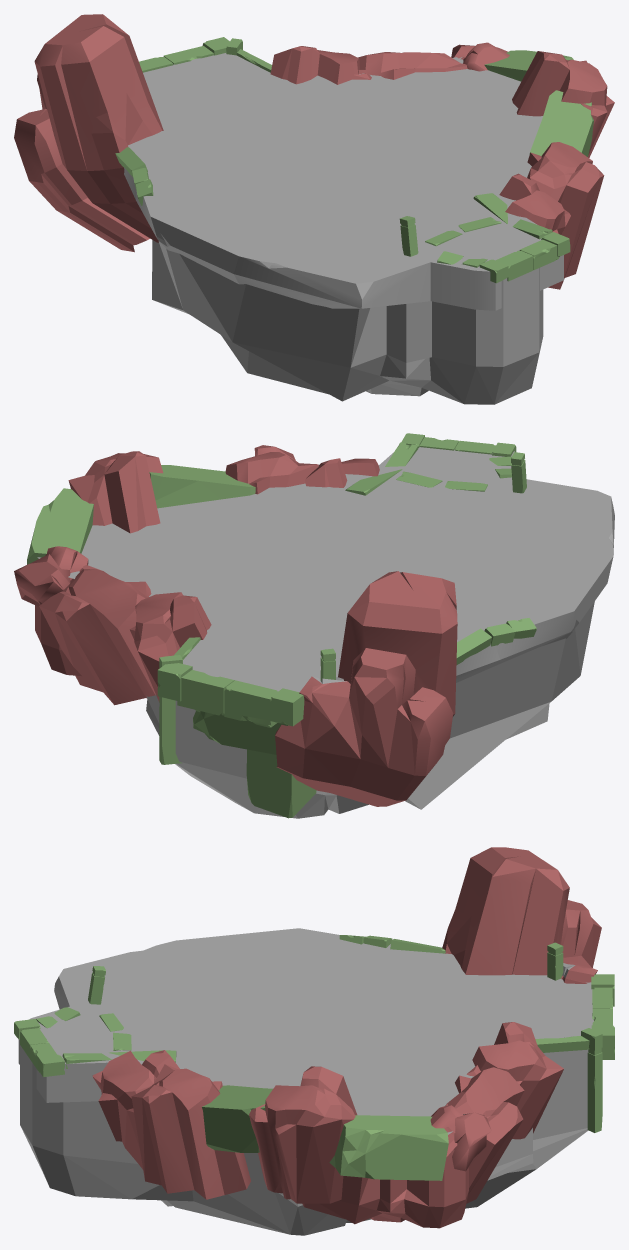
File: SM_Spawn_Island_03.fbx
3 renders of one model, top to bottom at view 1: azimuth 30°, elevation 25°; view 2: azimuth 150°, elevation 25°; view 3: azimuth 270°, elevation 25°, orthographic. The views are drawn at different scales.
Visible parts, largest first — view 1: SM_Spawn_Island_04; view 2: SM_Spawn_Island_04; view 3: SM_Spawn_Island_04.
Part boxes in pixels (box(x1,y1,x2,y2)): SM_Spawn_Island_04: box(14, 14, 614, 404); SM_Spawn_Island_04: box(14, 433, 614, 818); SM_Spawn_Island_04: box(14, 847, 614, 1235).
Size of what is drawn, in the model's own units: 1885 by 1051 by 2125.
